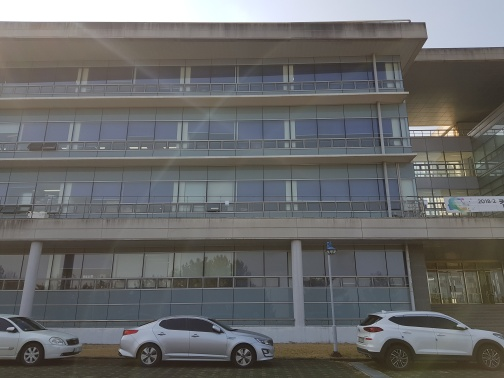Engineering College Building 4: (13, 24, 499, 304), (42, 44, 495, 299)
